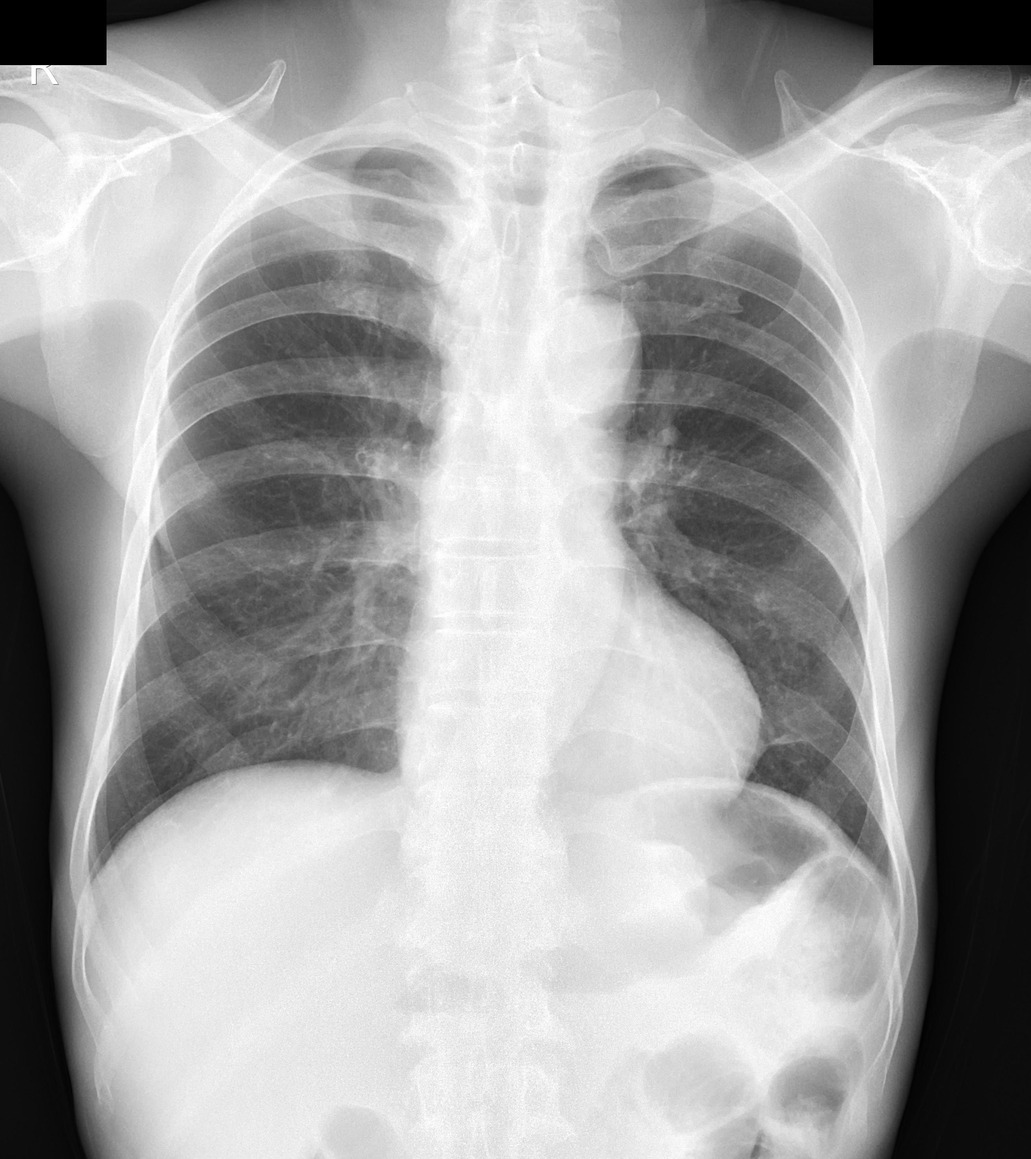Pulmonary fibrosis: (768, 730, 814, 748)
